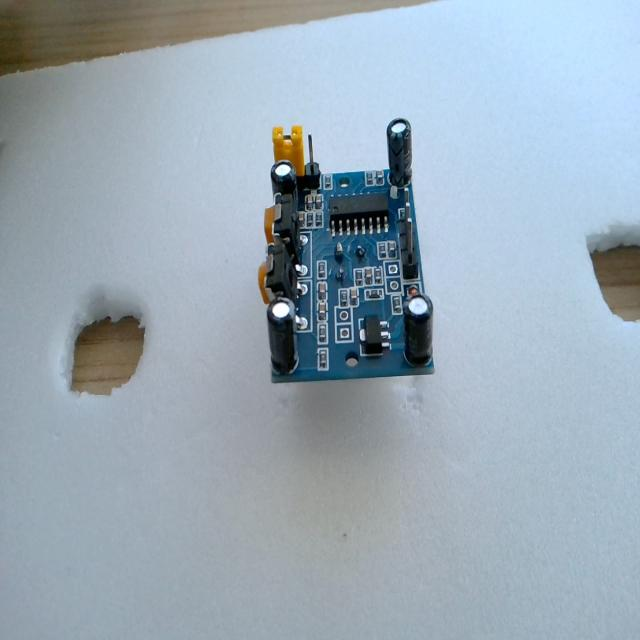Electrolytic capacitor: (266, 298, 298, 375), (402, 293, 433, 365), (386, 116, 413, 188), (270, 161, 298, 207)
IC: (329, 187, 388, 231)
